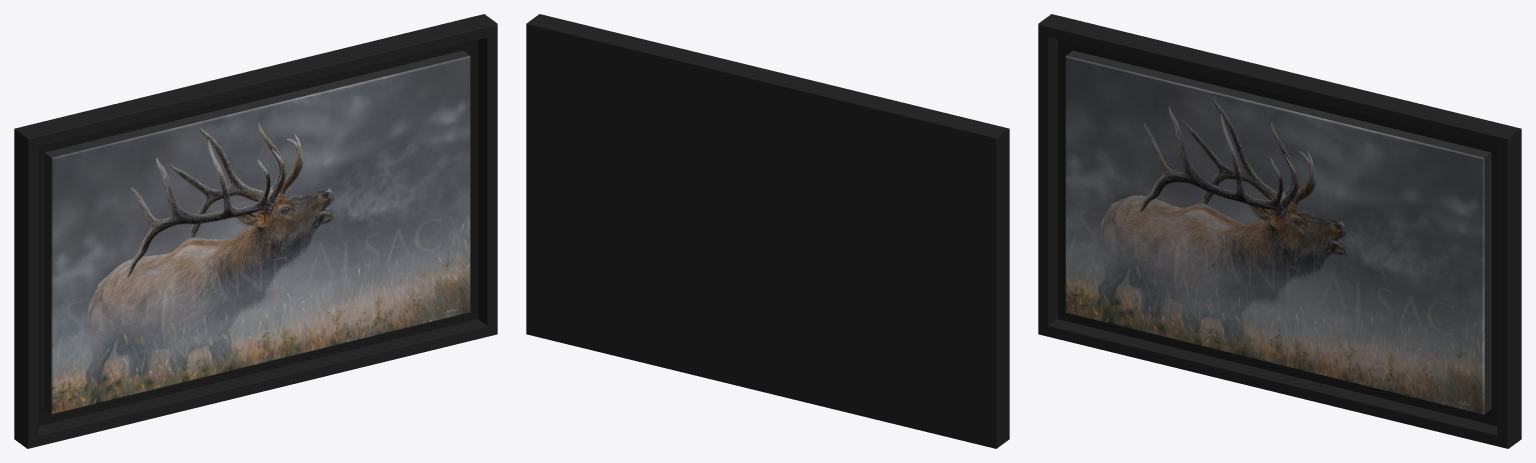
File: tableau-wapiti-classique-f1cfa05c.glb
3 views of the same model, side by side, from view 1: azimuth 30°, elevation 25°; view 2: azimuth 150°, elevation 25°; view 3: azimuth 330°, elevation 25° (orthographic).
Visible parts, largest first — view 1: Painting; view 2: Painting; view 3: Painting.
Part boxes in pixels (x1=…): Painting: x1=14, y1=14, x2=497, y2=448; Painting: x1=526, y1=14, x2=1009, y2=448; Painting: x1=1038, y1=14, x2=1521, y2=448.
Bounding box in the file's own units: 0.786 × 0.496 × 0.04.
Materials: 4 (2 with a texture image).
